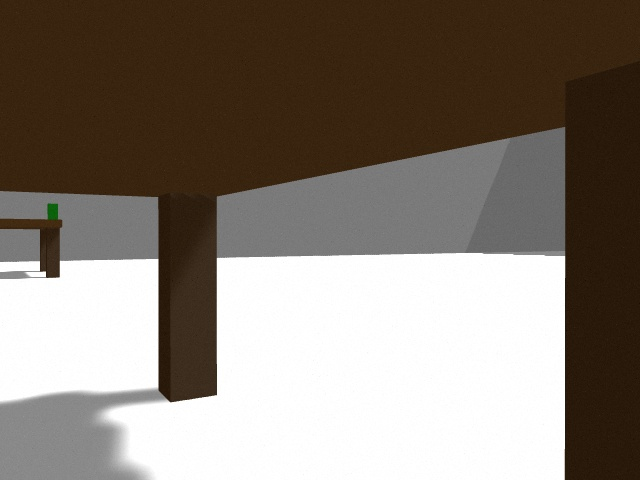green_cube: (47, 203, 58, 219)
